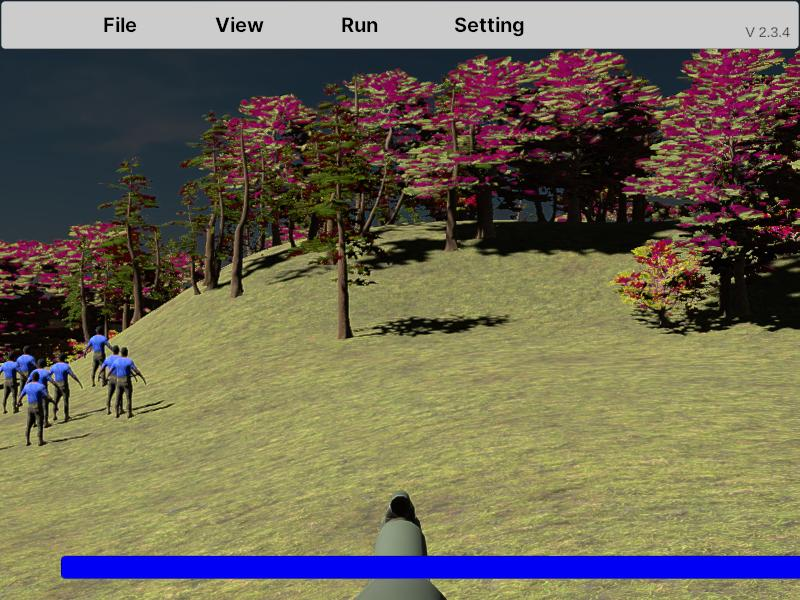Human: (18, 370, 55, 446), (106, 346, 144, 419), (47, 350, 83, 422), (28, 356, 62, 428), (84, 324, 115, 388), (12, 345, 38, 407), (0, 352, 25, 415)
